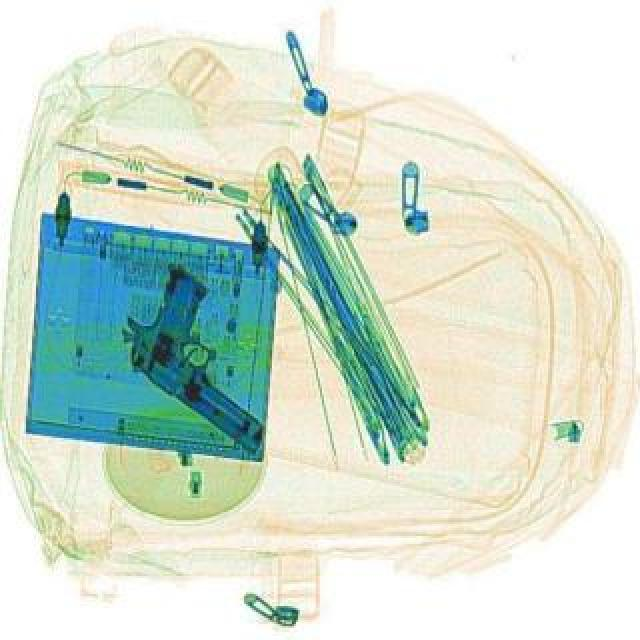gun: (100, 258, 324, 450)
